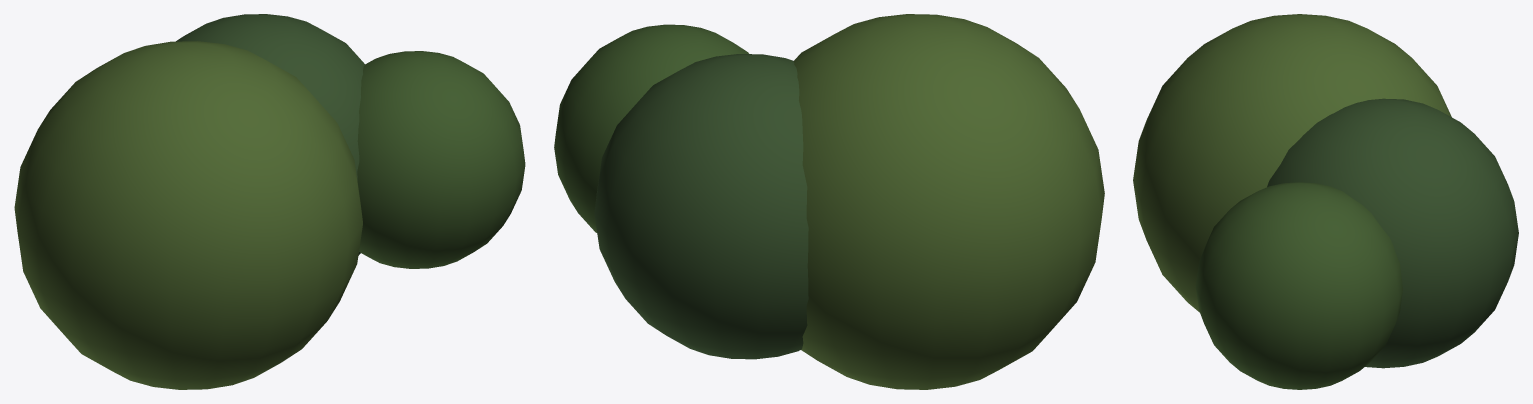
Rendered from Bush_1.fbx.
3 renders of one model, left to right at view 1: azimuth 30°, elevation 25°; view 2: azimuth 150°, elevation 25°; view 3: azimuth 270°, elevation 25°, orthographic. The views are drawn at different scales.
Visible parts, largest first — view 1: Leaf0, Leaf2, Leaf1; view 2: Leaf0, Leaf1, Leaf2; view 3: Leaf0, Leaf1, Leaf2.
Part boxes in pixels (box(x1,y1,x2,y2)): Leaf0: box(14, 41, 362, 389); Leaf2: box(357, 51, 525, 268); Leaf1: box(176, 14, 365, 255); Leaf0: box(793, 14, 1104, 389); Leaf1: box(594, 54, 808, 359); Leaf2: box(554, 24, 748, 232); Leaf0: box(1133, 14, 1451, 312); Leaf1: box(1267, 98, 1518, 368); Leaf2: box(1195, 182, 1402, 389).
Size of the model in its own units: 250 by 185 by 160.
